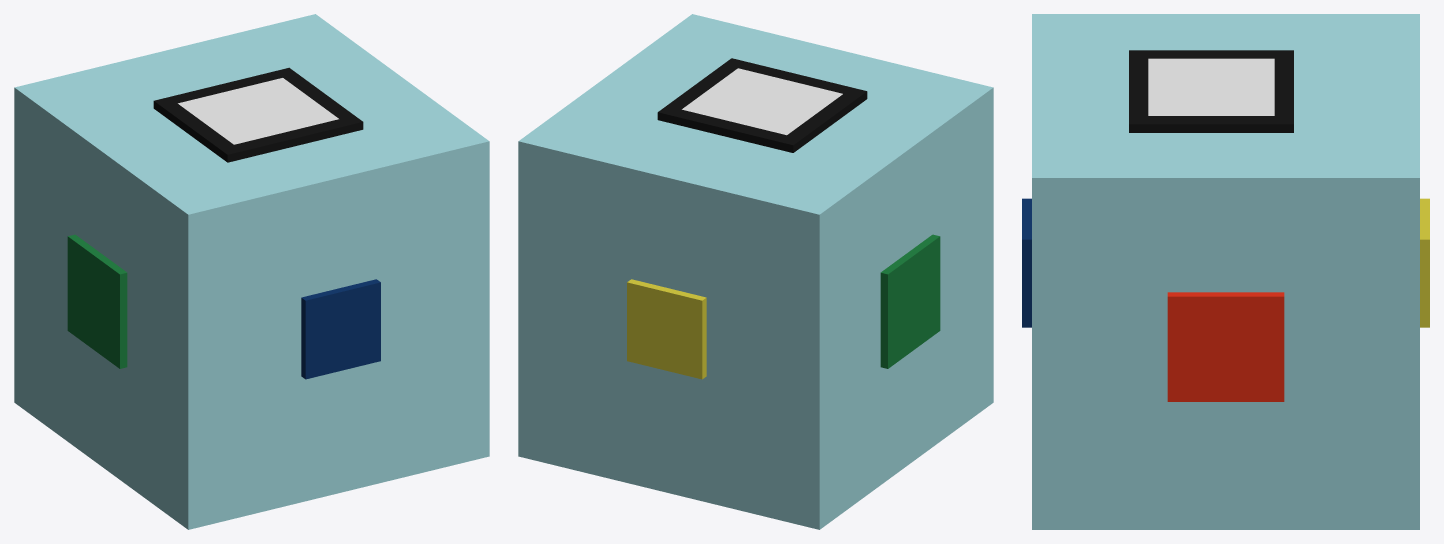
The model's file is obj_musicalbox.obj.
3 views of the same model, side by side, from view 1: azimuth 30°, elevation 25°; view 2: azimuth 150°, elevation 25°; view 3: azimuth 270°, elevation 25° (orthographic). The views are drawn at different scales.
Parts seen in each view (by area): view 1: obj_musicalbox; view 2: obj_musicalbox; view 3: obj_musicalbox.
Boxes of the visible parts, x1=… form: obj_musicalbox: x1=14, y1=14, x2=489, y2=529; obj_musicalbox: x1=518, y1=14, x2=993, y2=529; obj_musicalbox: x1=1022, y1=14, x2=1429, y2=529.
Size of the model in its own units: 42 by 41 by 42.
Materials: 1 (1 with a texture image).
